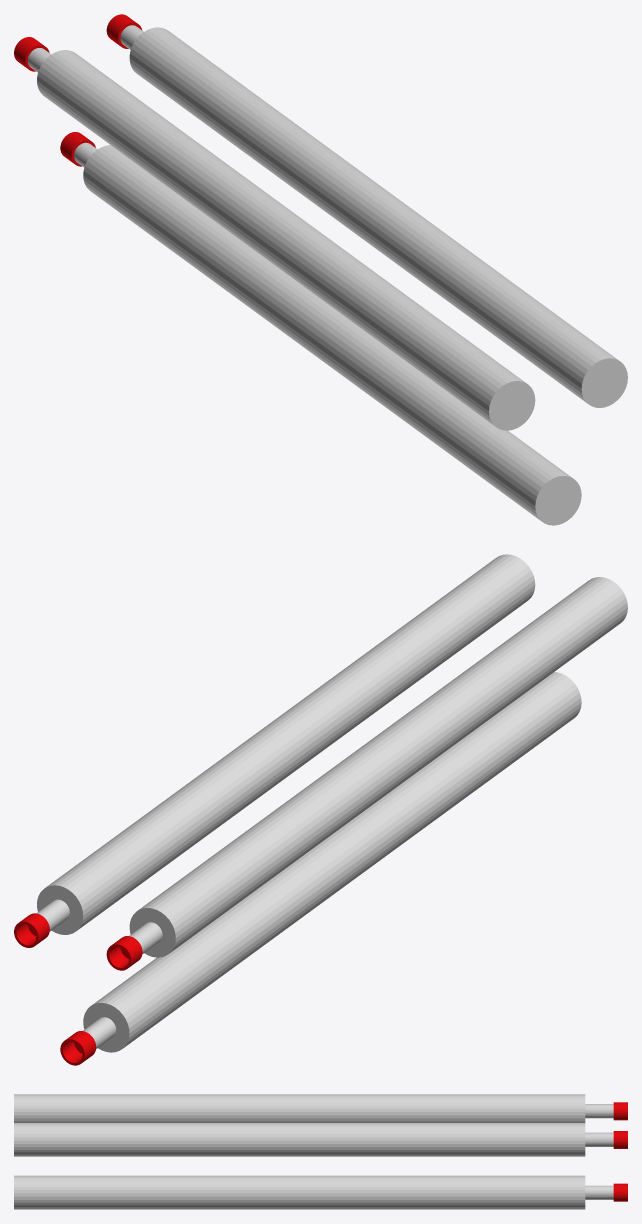
The model's file is minigun_laser_cylinders.fbx.
3 views of the same model, one above another, from view 1: azimuth 30°, elevation 25°; view 2: azimuth 150°, elevation 25°; view 3: azimuth 270°, elevation 25° (orthographic). The views are drawn at different scales.
Visible parts, largest first — view 1: Cylinder; view 2: Cylinder; view 3: Cylinder.
Part boxes in pixels (x1,y1,x2,y2): Cylinder: (14,14,627,525); Cylinder: (14,554,627,1065); Cylinder: (14,1094,627,1209).
Bounding box in the file's own units: 82.11 × 87.34 × 497.
